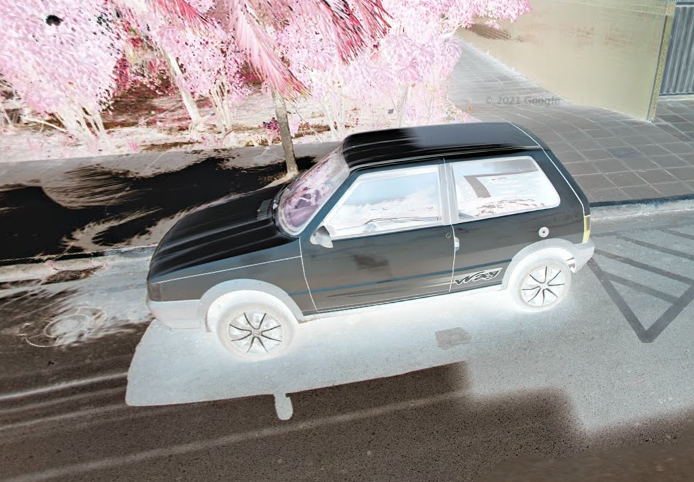car: (142, 119, 601, 364)
